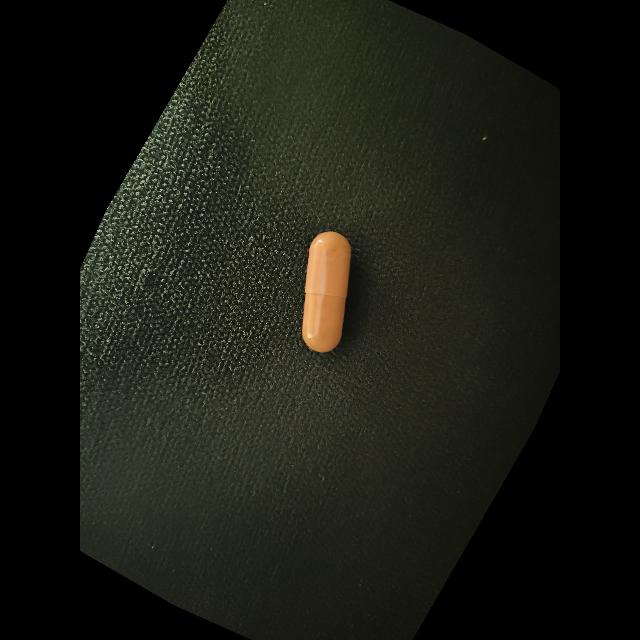Intact Capsule: (302, 231, 351, 352)
